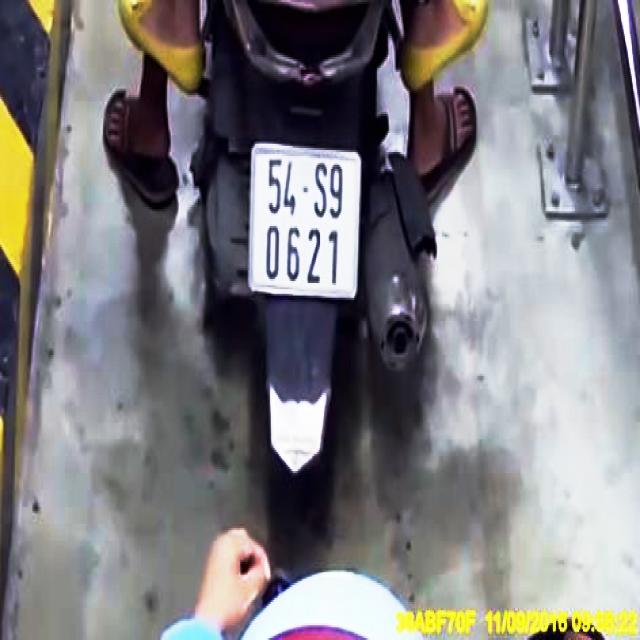license_plate: (248, 148, 362, 302)
